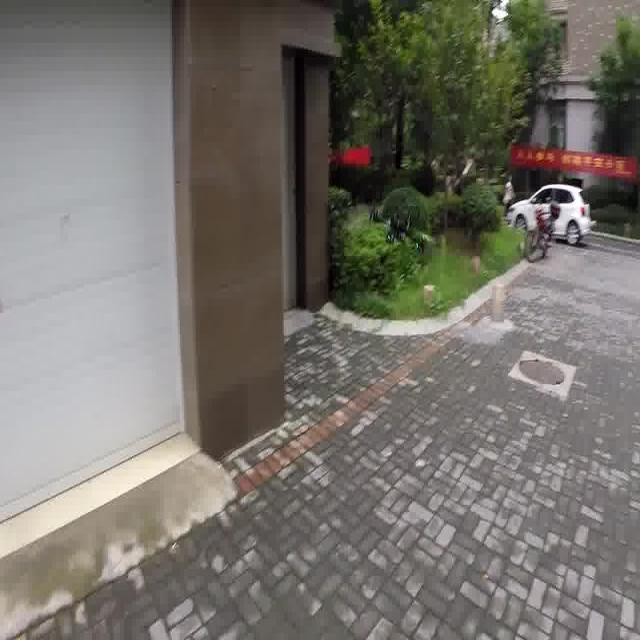Drone_FW: (364, 195, 432, 265)
